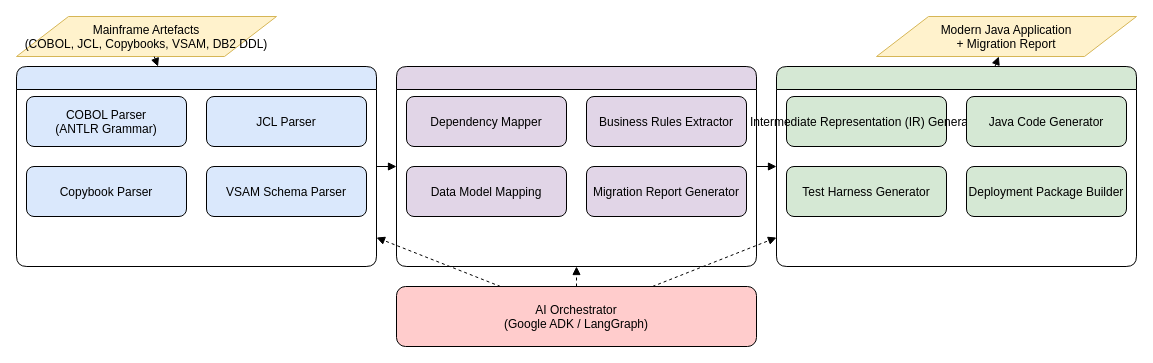
Image size: 1153x363. Some labels were removed from this diagram. The box of each missing label's shape, as (x1, y1, x2, y2) in pixels:
Analysis Layer: (396, 66, 756, 266)
Parsing Layer: (16, 66, 376, 266)
Transformation Layer: (776, 66, 1136, 266)
